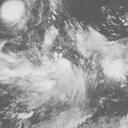cyclone: (39, 22, 127, 104)
